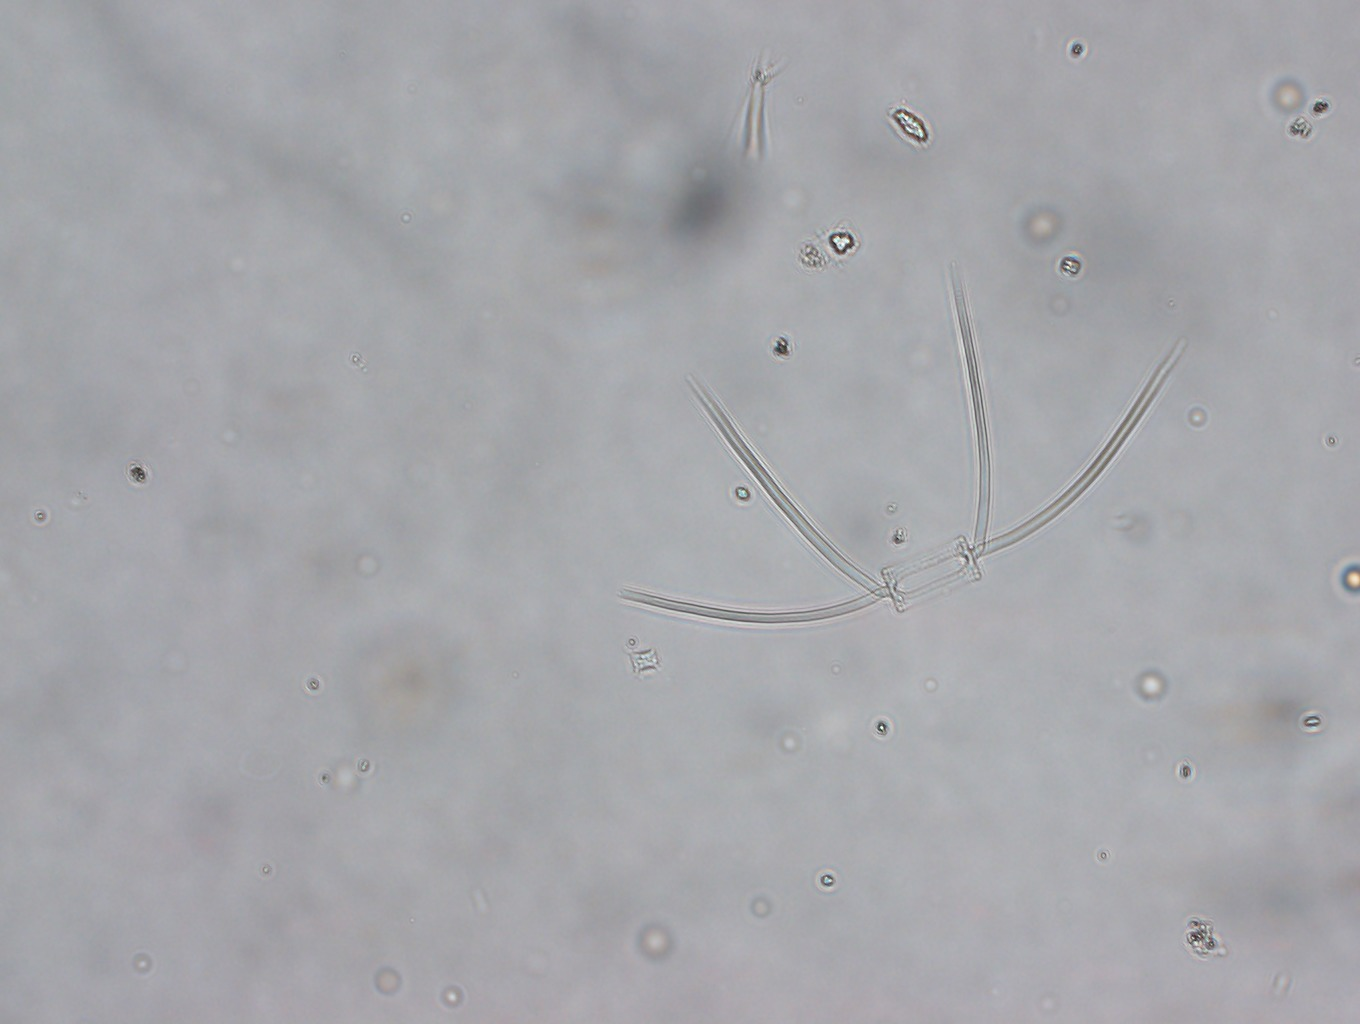chaetoceros: (595, 244, 1193, 630)
